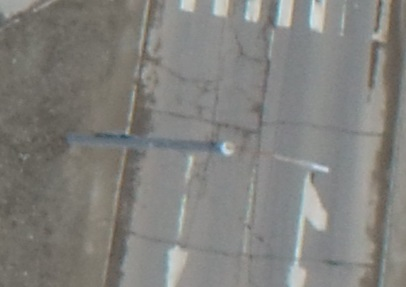opora: (67, 128, 331, 176)
